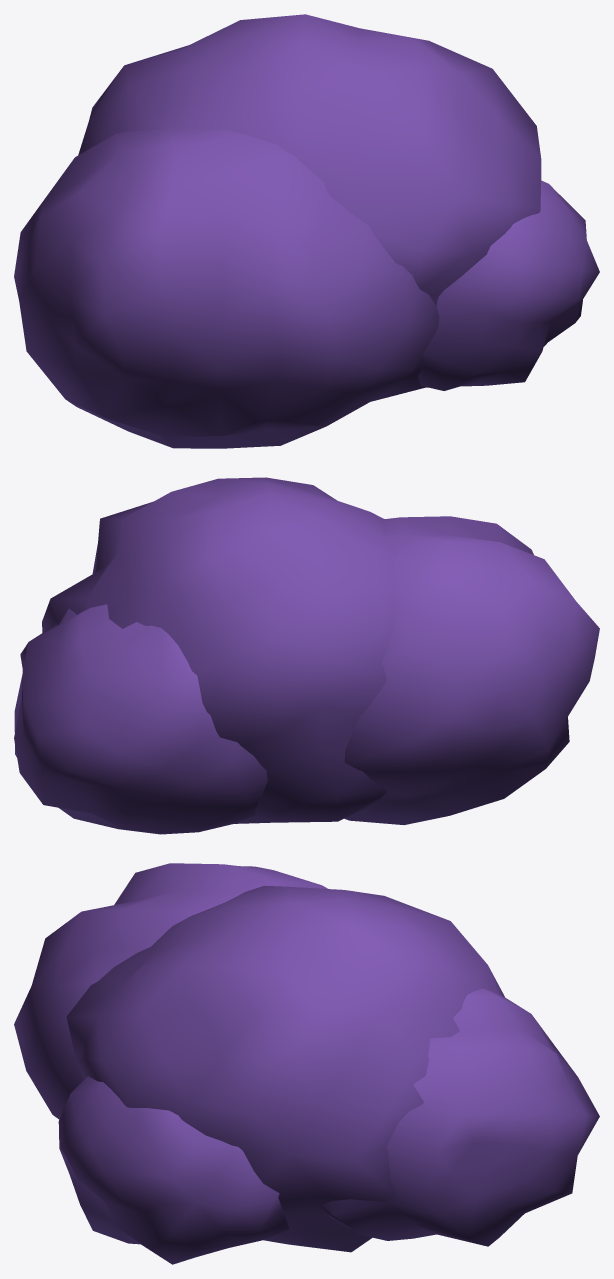
The model's file is bush_shadow.glb.
The picture shows the model from 3 angles, top to bottom: view 1: azimuth 30°, elevation 25°; view 2: azimuth 150°, elevation 25°; view 3: azimuth 270°, elevation 25°; orthographic projection. The views are drawn at different scales.
Parts seen in each view (by area): view 1: bush_shadow; view 2: bush_shadow; view 3: bush_shadow.
Boxes of the visible parts, x1,y1,x2,y2 form: bush_shadow: [14, 14, 599, 448]; bush_shadow: [14, 477, 599, 834]; bush_shadow: [14, 863, 599, 1264].
Size of the model in its own units: 1.3 by 0.8078 by 1.35.
